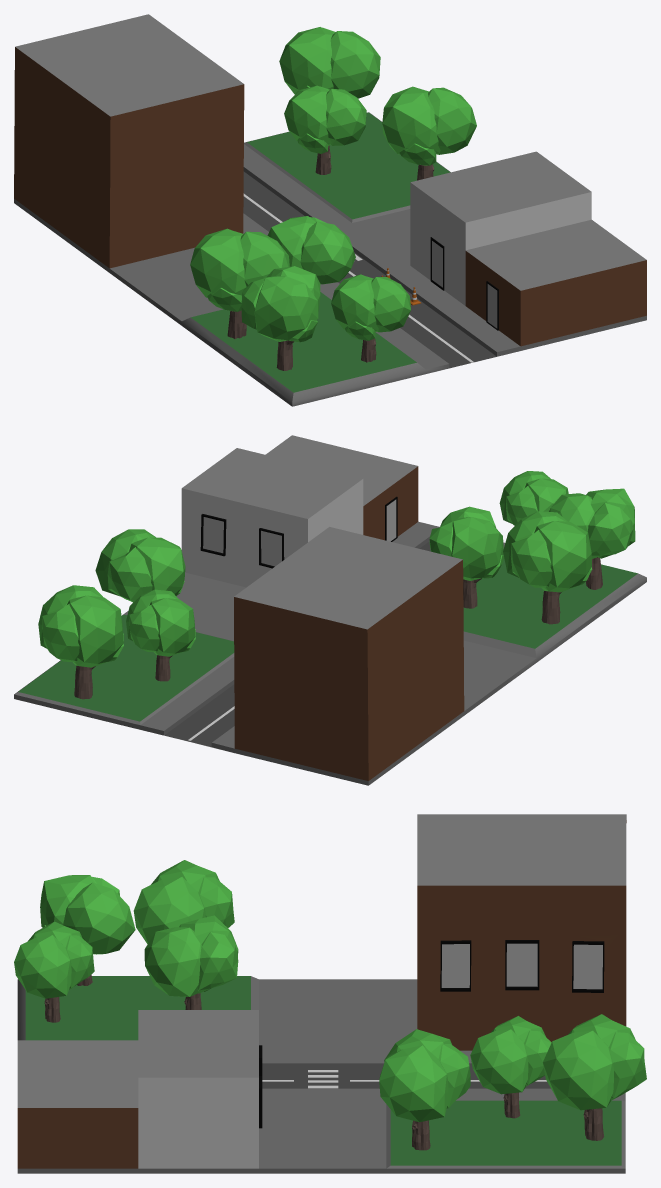
The model's file is straight_road.fbx.
3 renders of one model, top to bottom at view 1: azimuth 30°, elevation 25°; view 2: azimuth 150°, elevation 25°; view 3: azimuth 270°, elevation 25°, orthographic. The views are drawn at different scales.
Visible parts, largest first — view 1: polySurface1, tree, tree4, tree1, tree6, tree2, tree5, tree3; view 2: polySurface1, tree4, tree1, tree, tree6, tree3, tree2, tree5; view 3: polySurface1, tree1, tree, tree3, tree6, tree4, tree2, tree5.
Part boxes in pixels (x1,y1,x2,y2): polySurface1: (14,14,646,406); tree: (382,86,476,180); tree4: (190,228,289,338); tree1: (279,27,380,98); tree6: (241,266,320,370); tree2: (284,85,366,174); tree5: (331,274,410,362); tree3: (267,216,355,284); polySurface1: (14,435,646,785); tree4: (503,511,592,624); tree1: (38,585,123,699); tree: (95,529,185,602); tree6: (549,488,635,589); tree3: (429,506,504,608); tree2: (126,589,195,681); tree5: (499,471,568,525); polySurface1: (17,814,626,1173); tree1: (543,1014,646,1140); tree: (379,1029,470,1150); tree3: (144,915,238,1009); tree6: (40,875,135,985); tree4: (133,860,234,944); tree2: (470,1016,551,1118); tree5: (14,921,94,1022).
Size of the model in its own units: 239 by 93.32 by 314.
